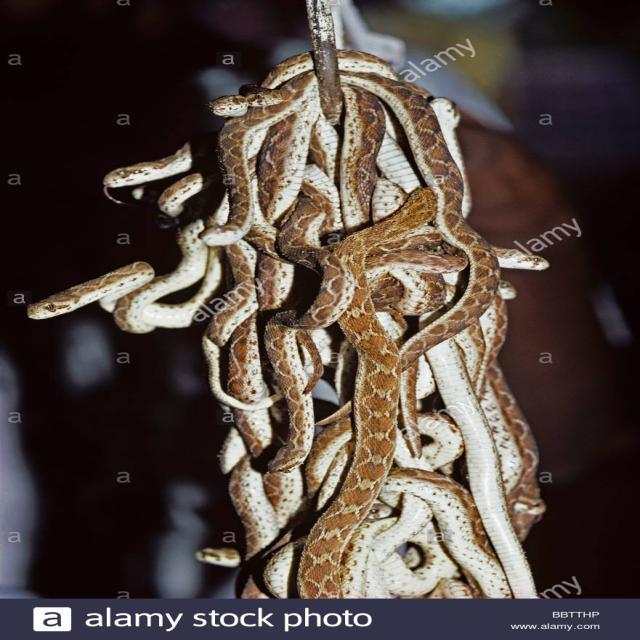Snake: (26, 44, 551, 599)
